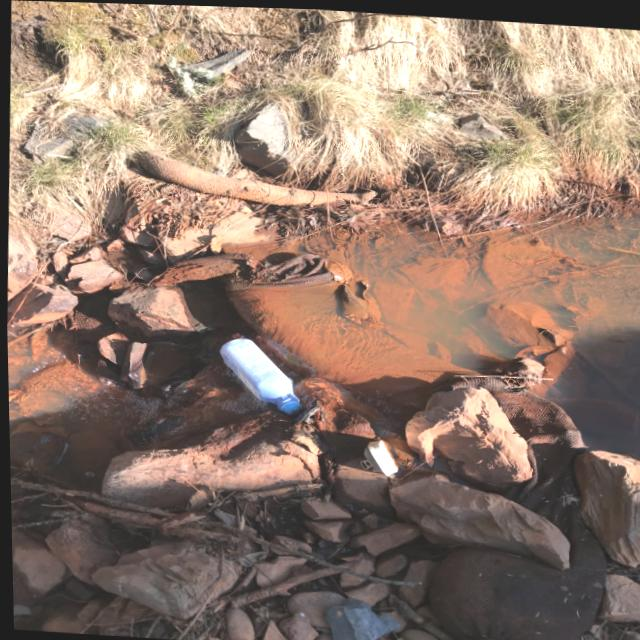Plastic: (191, 326, 312, 427), (357, 426, 412, 490)
